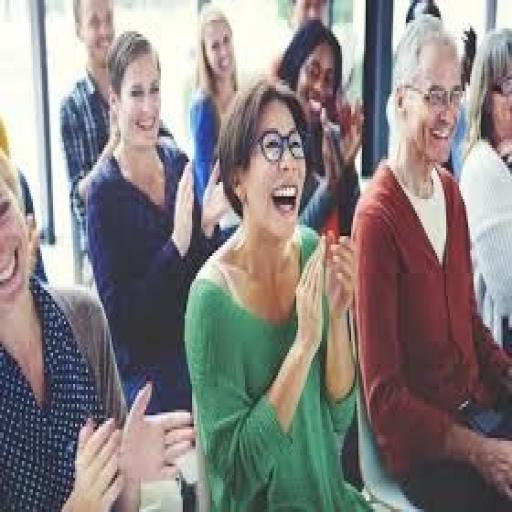clapping: (8, 120, 203, 512), (200, 113, 354, 512), (76, 18, 225, 352)
